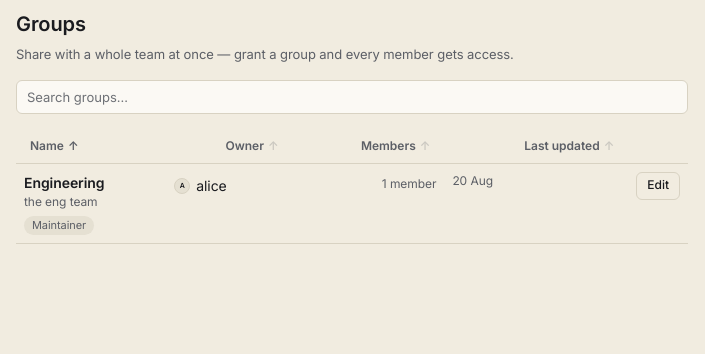
Scenario: GroupsPage › gives a maintainer the member editor but NOT maintainer/transfer/delete
The image size is (705, 354).
Click the button with aria-label "Edit Engineering".
click(658, 186)  # box [636,172,680,200]
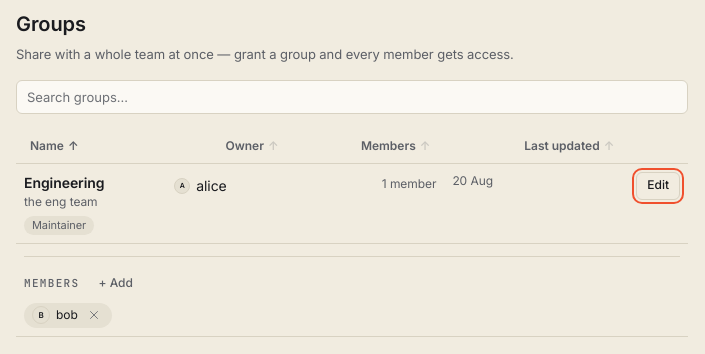
Expected: the button with test id "group-members-add" is shown, [88,269,144,297]
